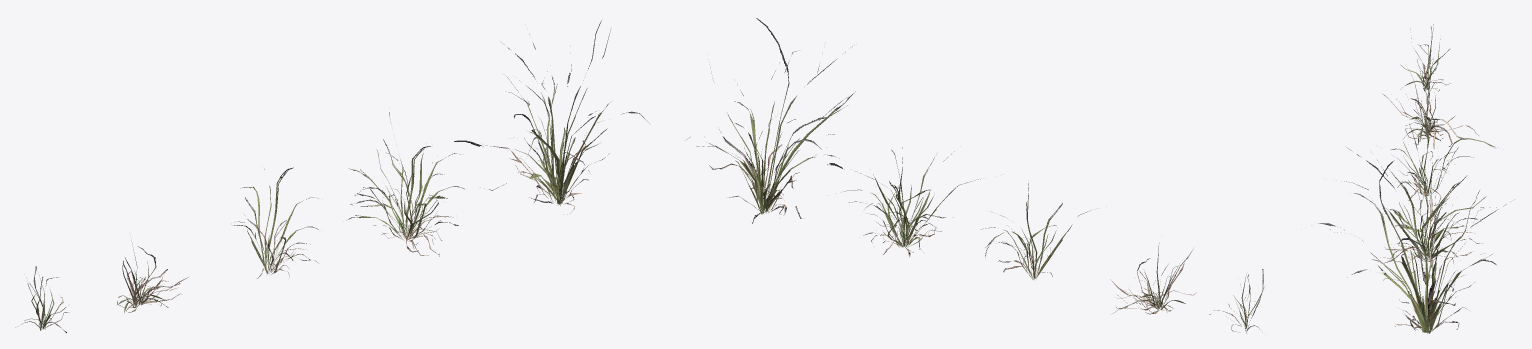
The model's file is grass_medium_02.glb.
The picture shows the model from 3 angles, left to right: view 1: azimuth 30°, elevation 25°; view 2: azimuth 150°, elevation 25°; view 3: azimuth 270°, elevation 25°; orthographic projection. The views are drawn at different scales.
Visible parts, largest first — view 1: grass_medium_02_a; view 2: grass_medium_02_a; view 3: grass_medium_02_a.
Part boxes in pixels (x1=…): grass_medium_02_a: x1=15, y1=20, x2=650, y2=333; grass_medium_02_a: x1=686, y1=18, x2=1264, y2=333; grass_medium_02_a: x1=1319, y1=24, x2=1506, y2=333.
Size of the model in its own units: 1.29 by 0.4053 by 0.4318.
1 material, 1 textured.
